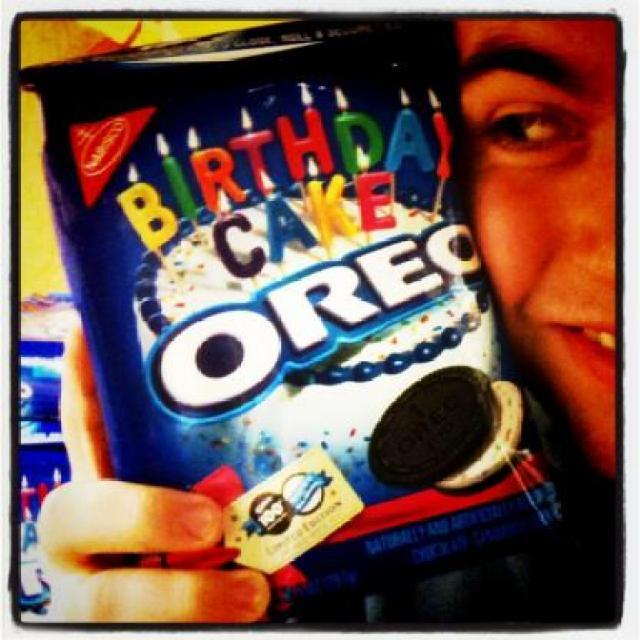Cookie: (352, 367, 522, 501)
